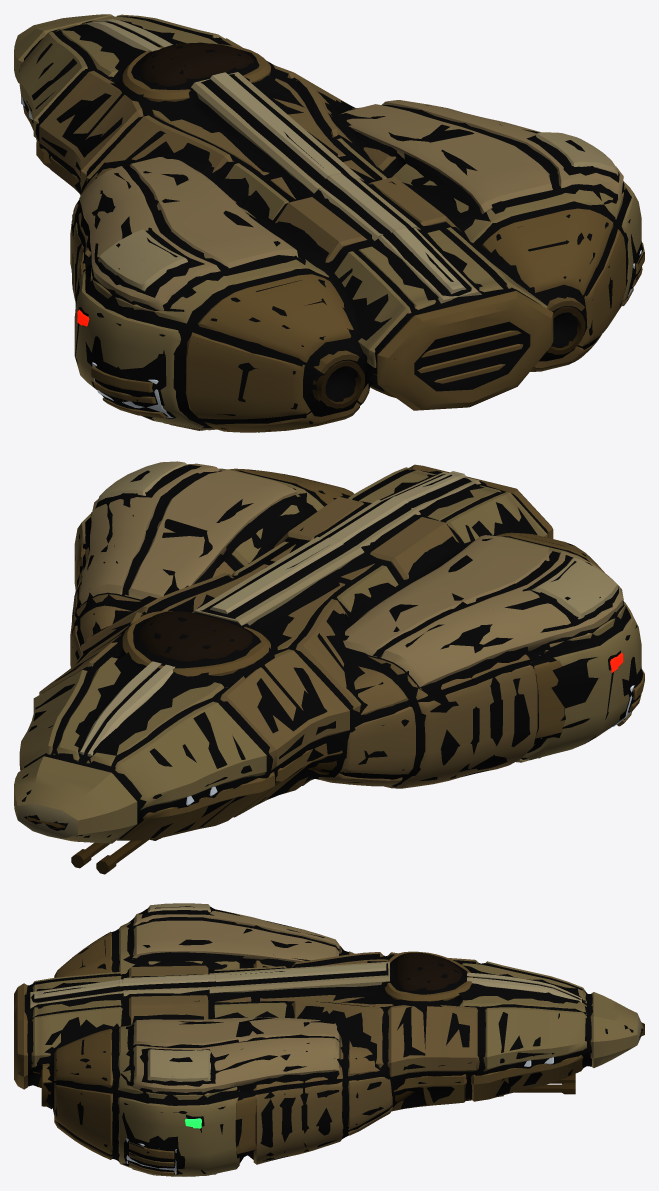
File: usp_talon.glb
The picture shows the model from 3 angles, top to bottom: view 1: azimuth 30°, elevation 25°; view 2: azimuth 150°, elevation 25°; view 3: azimuth 270°, elevation 25°; orthographic projection. The views are drawn at different scales.
Parts seen in each view (by area): view 1: usp_talon, usp_talon_outline; view 2: usp_talon, usp_talon_outline; view 3: usp_talon, usp_talon_outline.
Part boxes in pixels (x1,y1,x2,y2): usp_talon: (14, 14, 644, 432); usp_talon_outline: (19, 16, 643, 432); usp_talon: (14, 461, 644, 874); usp_talon_outline: (22, 464, 643, 842); usp_talon: (14, 903, 644, 1176); usp_talon_outline: (19, 906, 642, 1176).
Bounding box in the file's own units: 1.53 × 0.5223 × 2.08.
16 materials, 11 textured.
